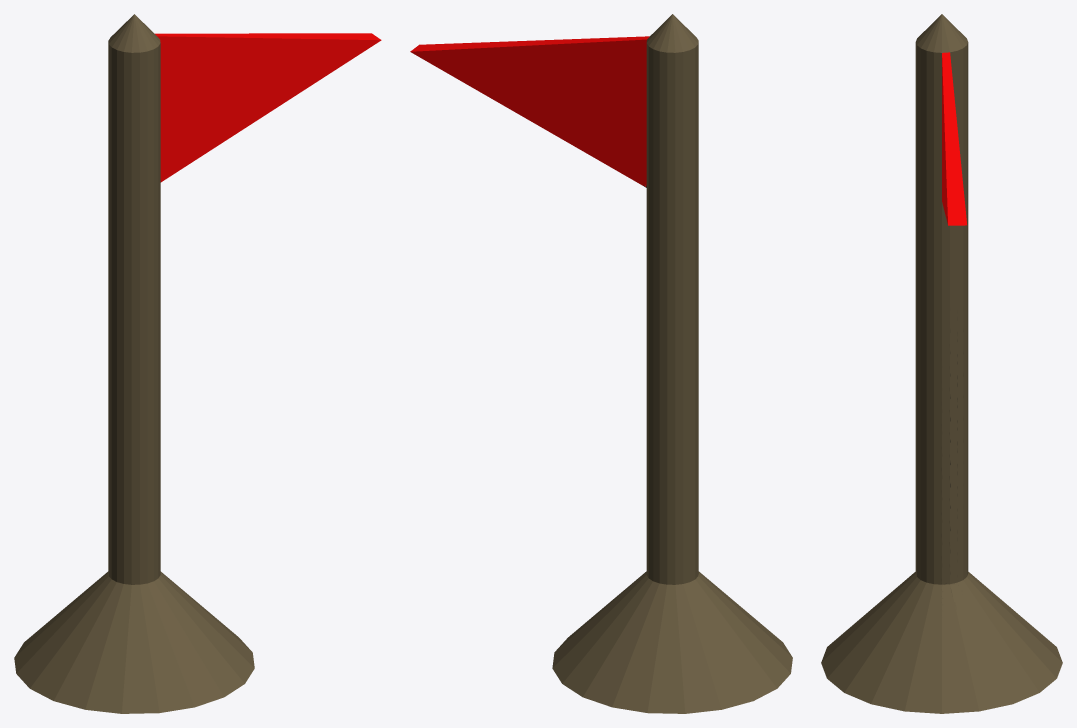
Rendered from flage.fbx.
3 renders of one model, left to right at view 1: azimuth 30°, elevation 25°; view 2: azimuth 150°, elevation 25°; view 3: azimuth 270°, elevation 25°, orthographic.
Parts seen in each view (by area): view 1: 원뿔; view 2: 원뿔; view 3: 원뿔.
Part boxes in pixels (x1,y1,x2,y2): 원뿔: (14,14,381,713); 원뿔: (410,14,792,713); 원뿔: (821,14,1062,713).
Size of the model in its own units: 231 by 403 by 136.
1 material, 1 textured.
